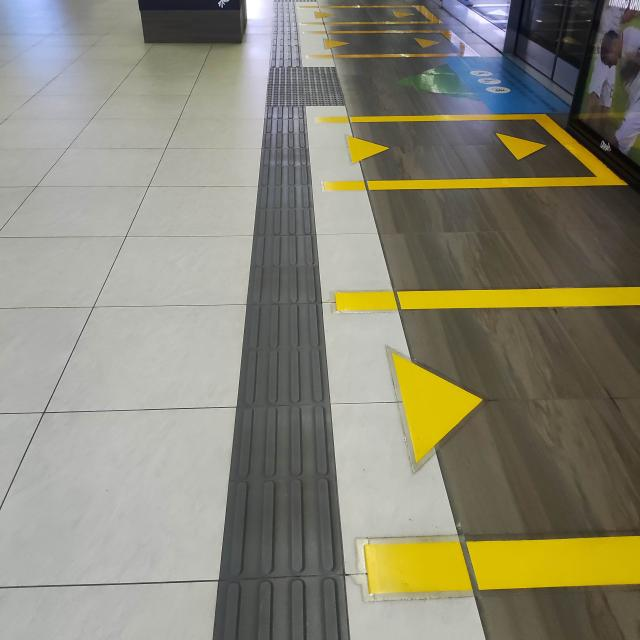lurus: (201, 68, 344, 640)
